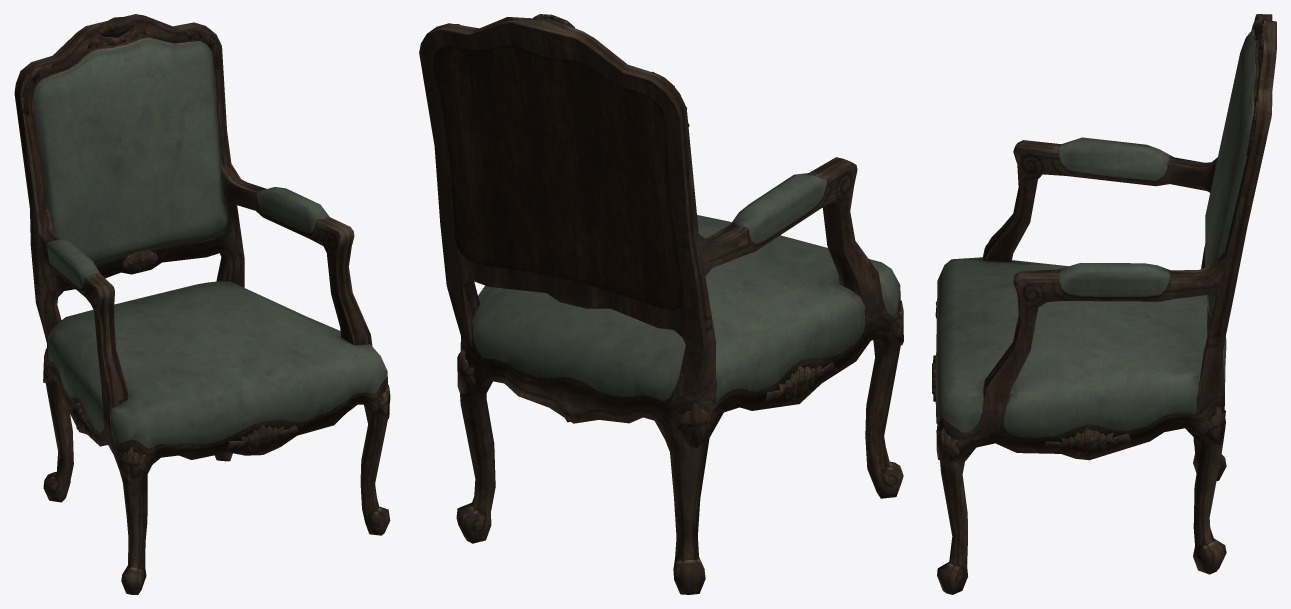
Rendered from GreenChair_01.glb.
The picture shows the model from 3 angles, left to right: view 1: azimuth 30°, elevation 25°; view 2: azimuth 150°, elevation 25°; view 3: azimuth 270°, elevation 25°; orthographic projection. The views are drawn at different scales.
Parts seen in each view (by area): view 1: GreenChair_01; view 2: GreenChair_01; view 3: GreenChair_01.
Boxes of the visible parts, left/top/right/bottom form: GreenChair_01: left=14, top=14, right=390, bottom=594; GreenChair_01: left=419, top=14, right=903, bottom=594; GreenChair_01: left=932, top=14, right=1276, bottom=594.
Bounding box in the file's own units: 0.672 × 1.06 × 0.6644.
Materials: 1 (1 with a texture image).
